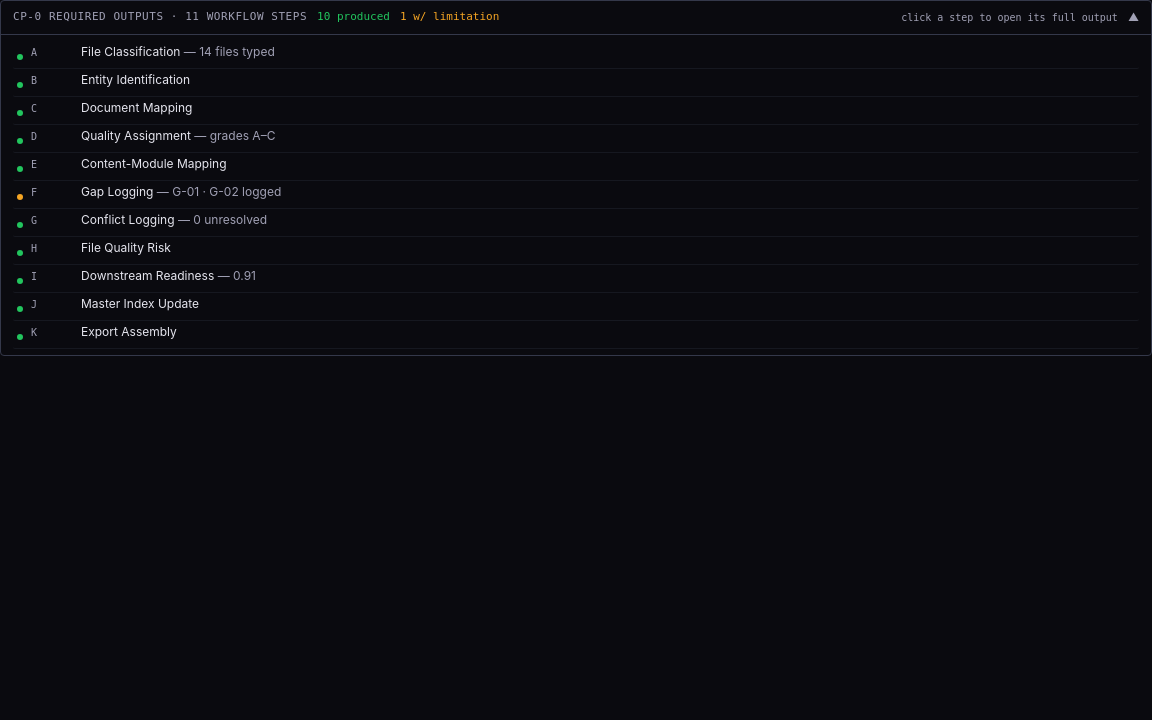
Test: OutputRegister › opens the step-output modal when a step is clicked
The image size is (1152, 720).
Click the button "A File Classification — 14 files typed" at point(131, 51), box x1=13 y1=40 x2=1139 y2=68
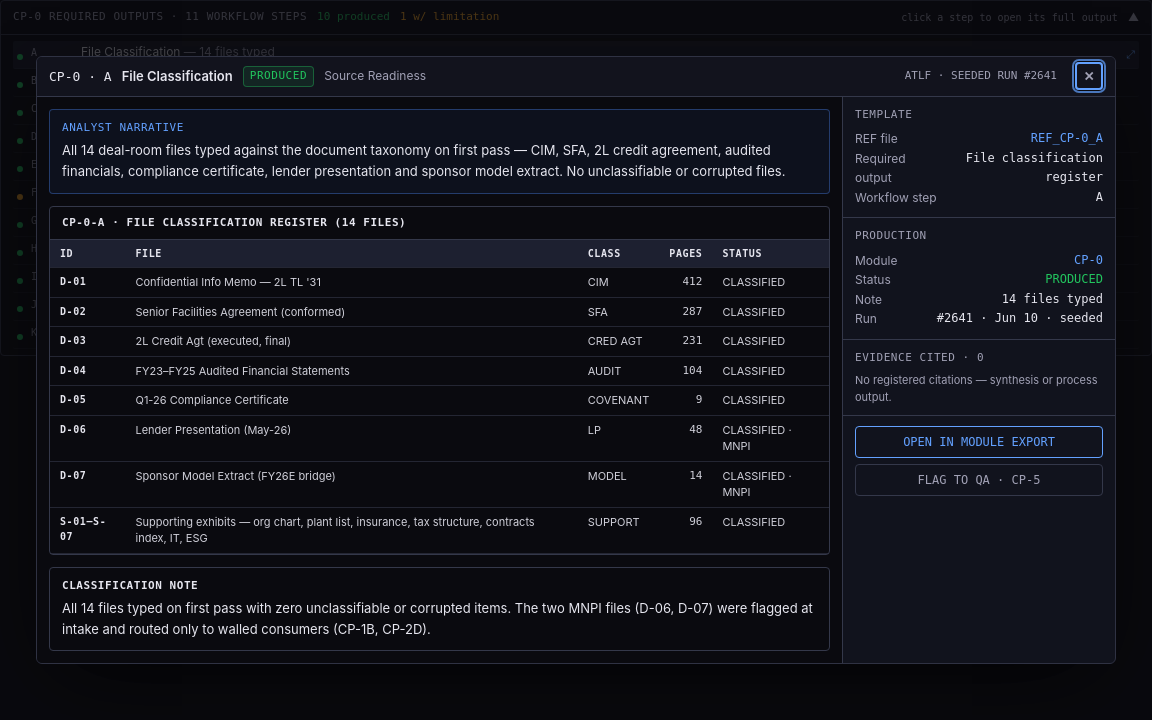
Result: the dialog is shown
Click the button "✕" at point(1089, 76), box x1=1075 y1=62 x2=1103 y2=90
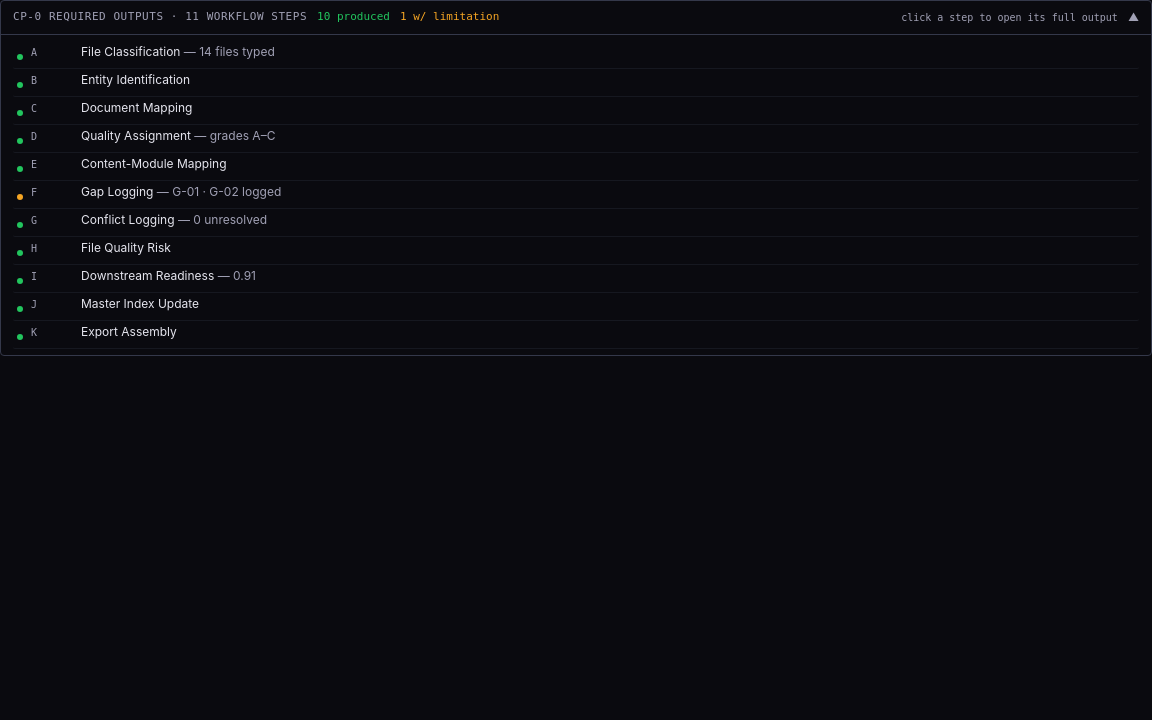
Result: the dialog is gone
